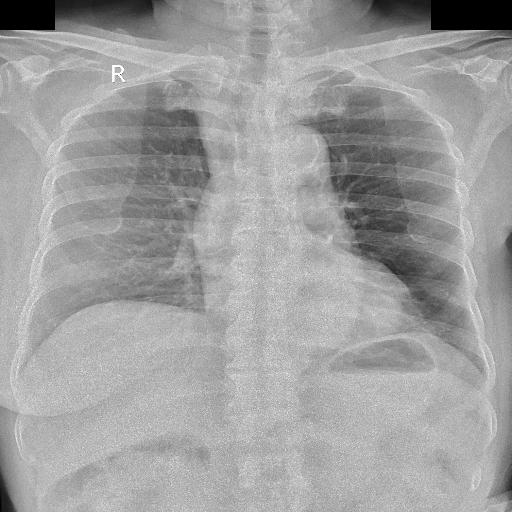Aortic enlargement: (232, 94, 299, 157)
Calcification: (294, 117, 312, 151)
Cardiomegaly: (94, 252, 308, 316)
Lung Opacity: (340, 272, 384, 312)
Other lesion: (180, 17, 234, 149)
Pleural thickening: (267, 57, 321, 73)
